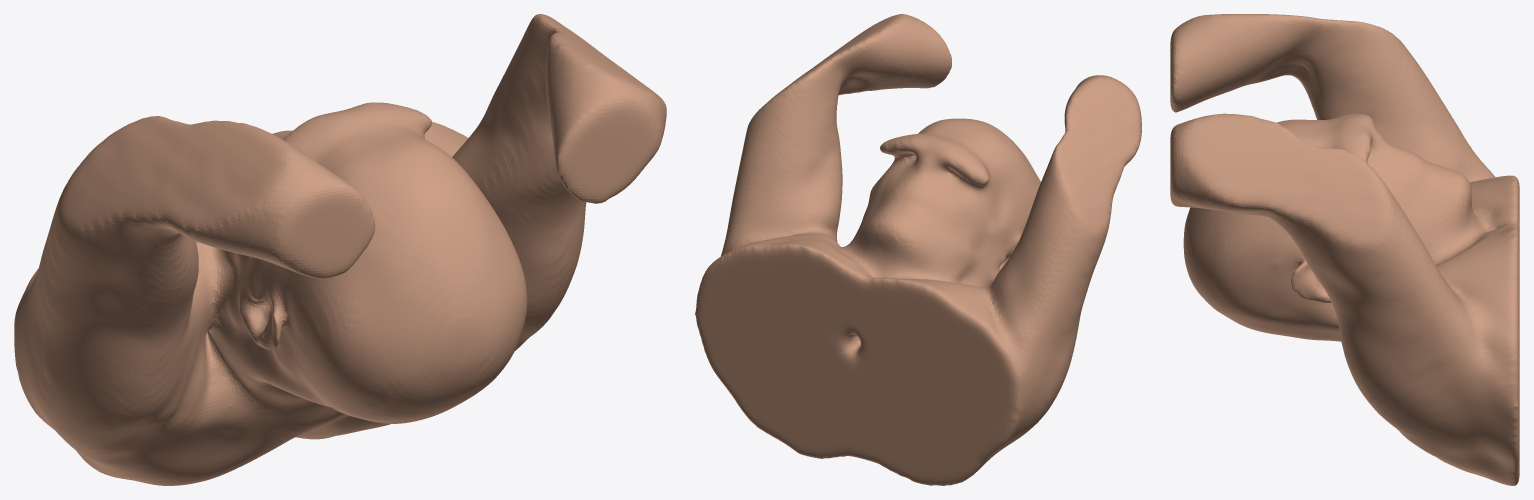
Rendered from headneck_skin.glb.
The picture shows the model from 3 angles, left to right: view 1: azimuth 30°, elevation 25°; view 2: azimuth 150°, elevation 25°; view 3: azimuth 270°, elevation 25°; orthographic projection. The views are drawn at different scales.
Parts seen in each view (by area): view 1: geometry_0; view 2: geometry_0; view 3: geometry_0.
Boxes of the visible parts, x1,y1,x2,y2 form: geometry_0: [14, 14, 666, 485]; geometry_0: [695, 14, 1141, 485]; geometry_0: [1170, 14, 1519, 485].
Size of the model in its own units: 428 by 384 by 316.
